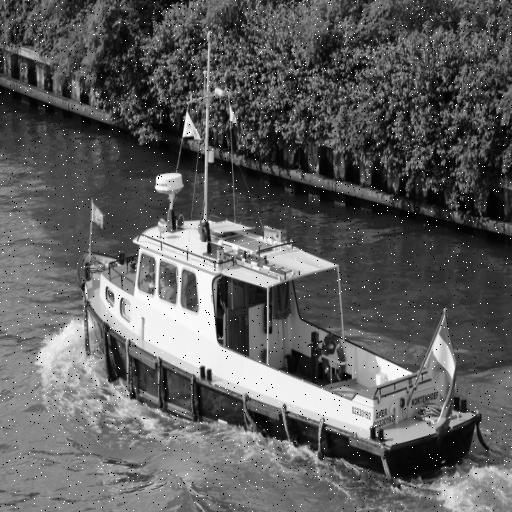tugboat: (70, 165, 490, 498)
